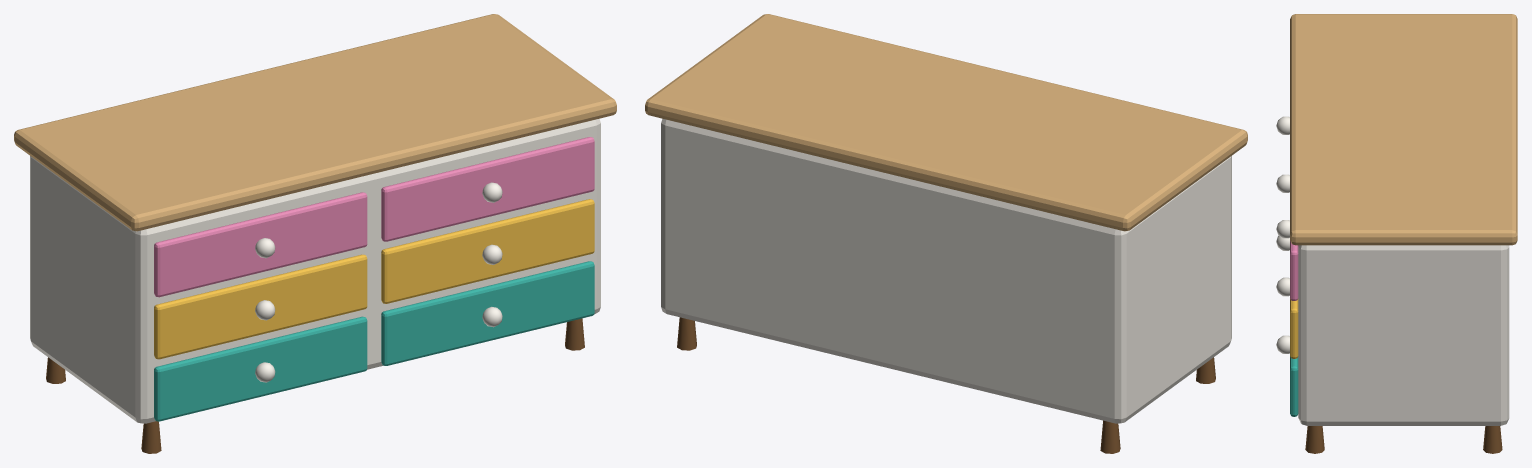
File: comoda.glb
The picture shows the model from 3 angles, left to right: view 1: azimuth 30°, elevation 25°; view 2: azimuth 150°, elevation 25°; view 3: azimuth 270°, elevation 25°; orthographic projection. The views are drawn at different scales.
Parts seen in each view (by area): view 1: comoda; view 2: comoda; view 3: comoda.
Part boxes in pixels (x1,y1,x2,y2): comoda: [14, 14, 616, 453]; comoda: [645, 14, 1247, 453]; comoda: [1276, 14, 1517, 453].
Bounding box in the file's own units: 1.88 × 0.92 × 0.87.
